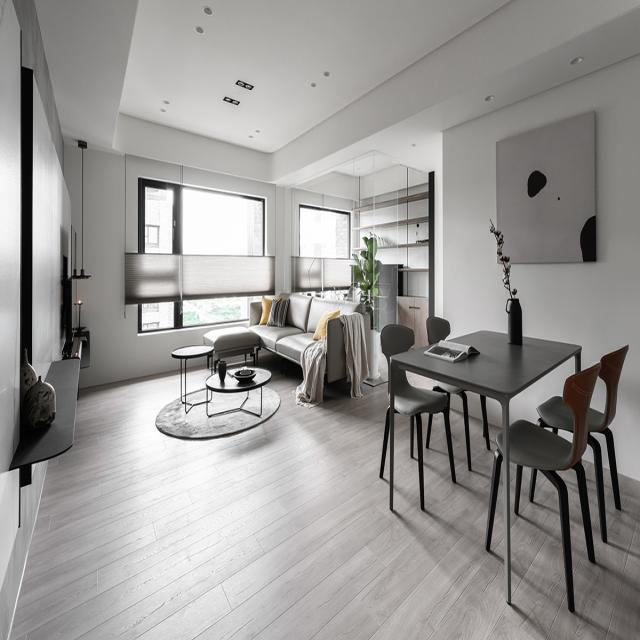table: (378, 304, 632, 621)
